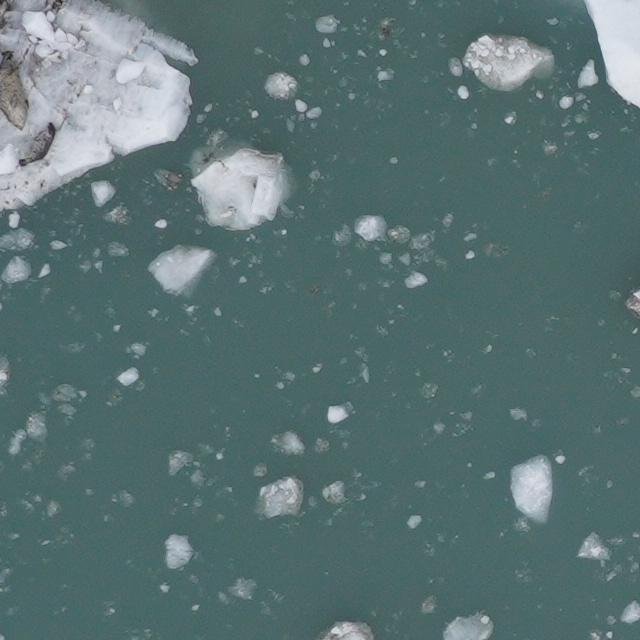seal: (0, 49, 34, 134), (15, 118, 61, 170)
